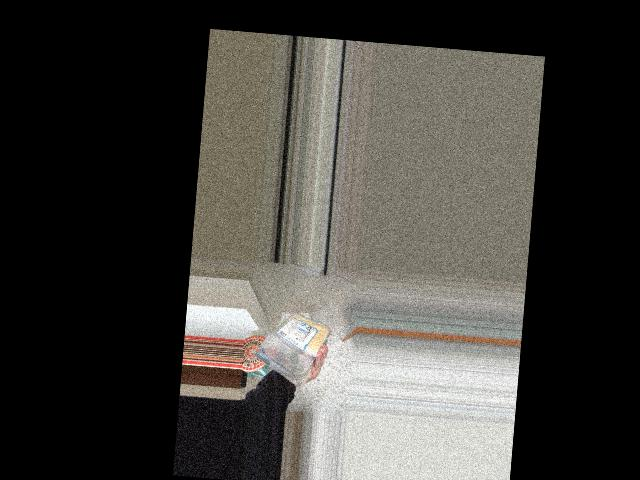cheese: (251, 303, 322, 383)
